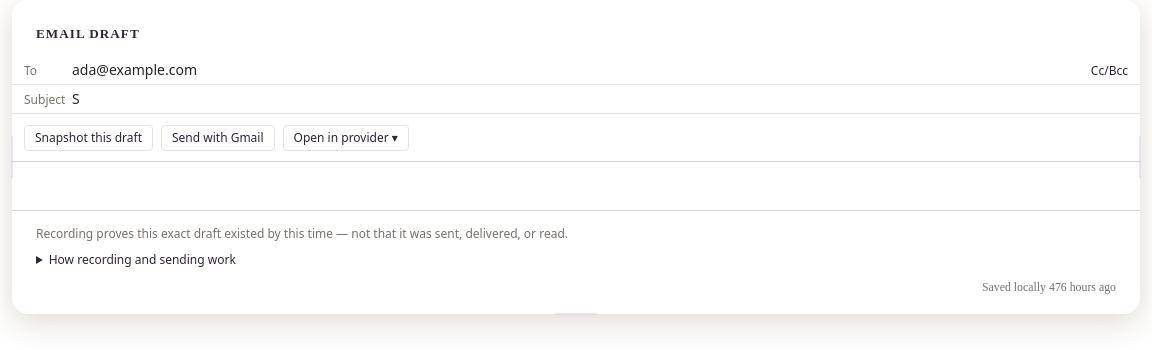
Scenario: EmailComposePanel Gmail integration › authorises, records, and only then sends
Click the button "Send with Gmail". click: (218, 138)
box: top-left (161, 125), bottom-right (275, 151)
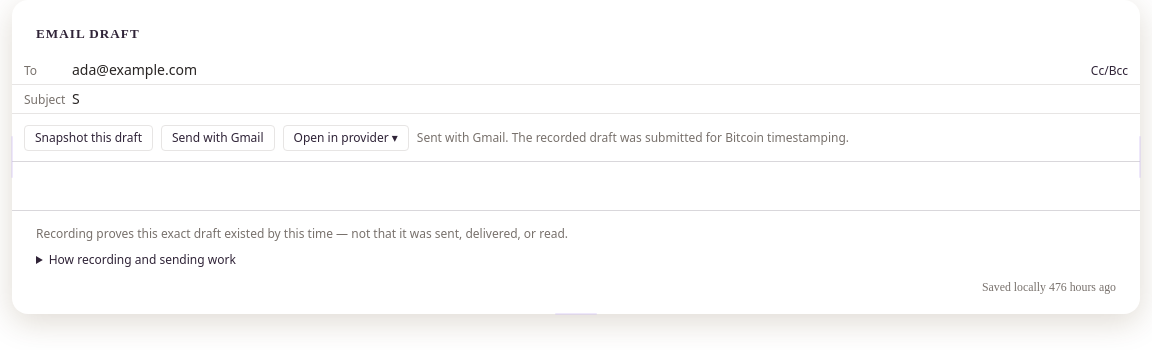
Check: the text "Sent with Gmail" is shown, box top-left (417, 129), bottom-right (849, 146)
